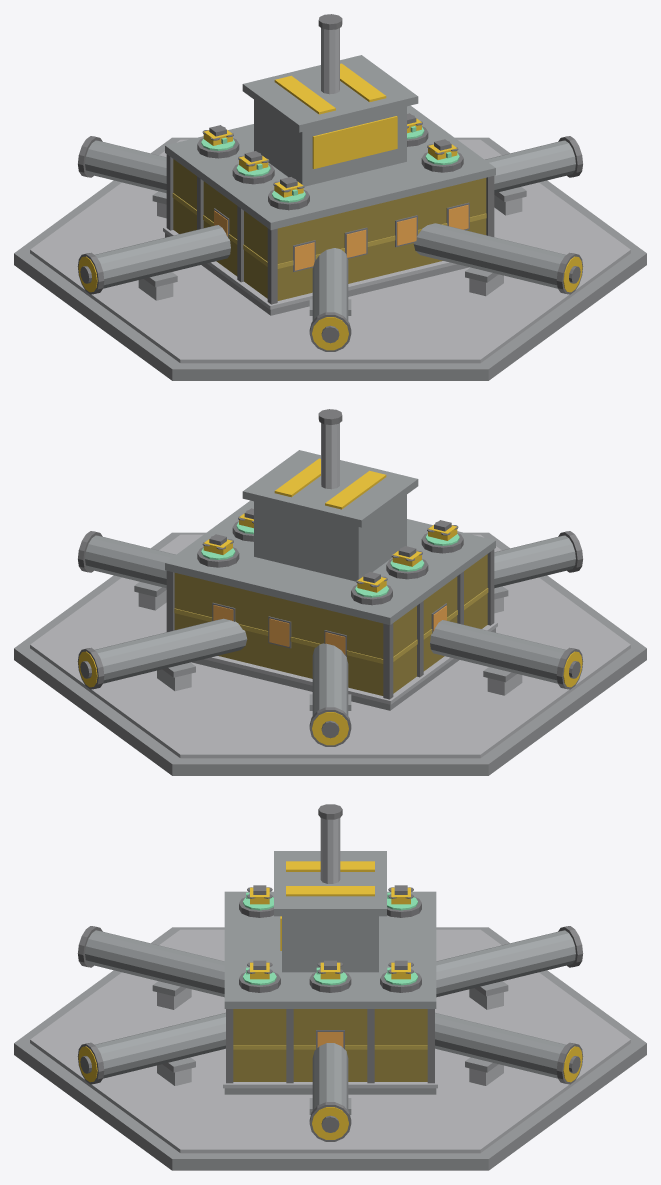
The model's file is maintenance_building_s1_100.glb.
3 views of the same model, one above another, from view 1: azimuth 30°, elevation 25°; view 2: azimuth 150°, elevation 25°; view 3: azimuth 270°, elevation 25° (orthographic).
Parts seen in each view (by area): view 1: M_FoundRim, M_Foundation, M_Wall_S, M_RoofS, M_HangarRoof, M_Hangar, M_PipeStubSE, M_PipeStubW, M_PipeStubE, M_PipeStubNW, M_HangarOpening, M_PipeStubSW (+15 smaller); view 2: M_FoundRim, M_Foundation, M_Wall_N, M_Hangar, M_RoofN, M_HangarRoof, M_PipeStubNE, M_PipeStubW, M_PipeStubE, M_PipeStubSW, M_PipeStubNW, M_RoofS (+14 smaller); view 3: M_FoundRim, M_Foundation, M_RoofN, M_RoofS, M_Hangar, M_HangarRoof, M_PipeStubNW, M_PipeStubSW, M_PipeStubNE, M_PipeStubSE, M_Wall_S, M_Wall_N (+13 smaller).
Boxes of the visible parts, x1=… form: M_FoundRim: x1=30, y1=139, x2=630, y2=363; M_Foundation: x1=14, y1=137, x2=646, y2=380; M_Wall_S: x1=244, y1=178, x2=486, y2=300; M_RoofS: x1=235, y1=146, x2=495, y2=229; M_HangarRoof: x1=242, y1=55, x2=418, y2=132; M_Hangar: x1=254, y1=100, x2=406, y2=186; M_PipeStubSE: x1=413, y1=223, x2=565, y2=288; M_PipeStubW: x1=95, y1=225, x2=230, y2=288; M_PipeStubE: x1=485, y1=140, x2=575, y2=193; M_PipeStubNW: x1=85, y1=140, x2=166, y2=193; M_HangarOpening: x1=312, y1=116, x2=397, y2=168; M_PipeStubSW: x1=312, y1=248, x2=348, y2=320; M_FoundRim: x1=30, y1=534, x2=630, y2=758; M_Foundation: x1=14, y1=532, x2=646, y2=775; M_Wall_N: x1=174, y1=573, x2=416, y2=695; M_Hangar: x1=254, y1=495, x2=406, y2=581; M_RoofN: x1=165, y1=541, x2=425, y2=624; M_HangarRoof: x1=242, y1=450, x2=418, y2=527; M_PipeStubNE: x1=95, y1=618, x2=247, y2=683; M_PipeStubW: x1=430, y1=620, x2=565, y2=683; M_PipeStubE: x1=85, y1=535, x2=175, y2=588; M_PipeStubSW: x1=494, y1=535, x2=575, y2=588; M_PipeStubNW: x1=312, y1=643, x2=348, y2=715; M_RoofS: x1=236, y1=500, x2=495, y2=572; M_FoundRim: x1=30, y1=929, x2=630, y2=1153; M_Foundation: x1=14, y1=927, x2=646, y2=1170; M_RoofN: x1=366, y1=891, x2=436, y2=1008; M_RoofS: x1=224, y1=891, x2=294, y2=1008; M_Hangar: x1=282, y1=916, x2=378, y2=972; M_HangarRoof: x1=274, y1=851, x2=386, y2=916; M_PipeStubNW: x1=436, y1=930, x2=575, y2=997; M_PipeStubSW: x1=85, y1=930, x2=224, y2=997; M_PipeStubNE: x1=435, y1=1012, x2=565, y2=1078; M_PipeStubSE: x1=95, y1=1012, x2=225, y2=1078; M_Wall_S: x1=233, y1=1009, x2=286, y2=1081; M_Wall_N: x1=374, y1=1009, x2=427, y2=1081.
Bounding box in the file's own units: 3.51 × 1.68 × 3.92.
